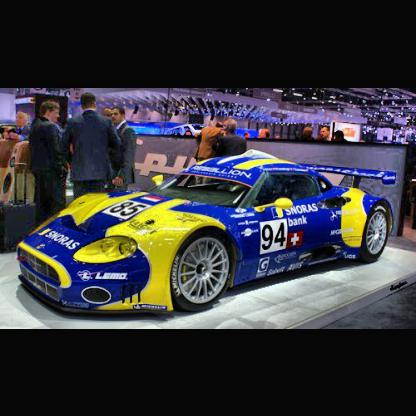Spyker C8 Convertible 2009: (15, 151, 401, 320)
